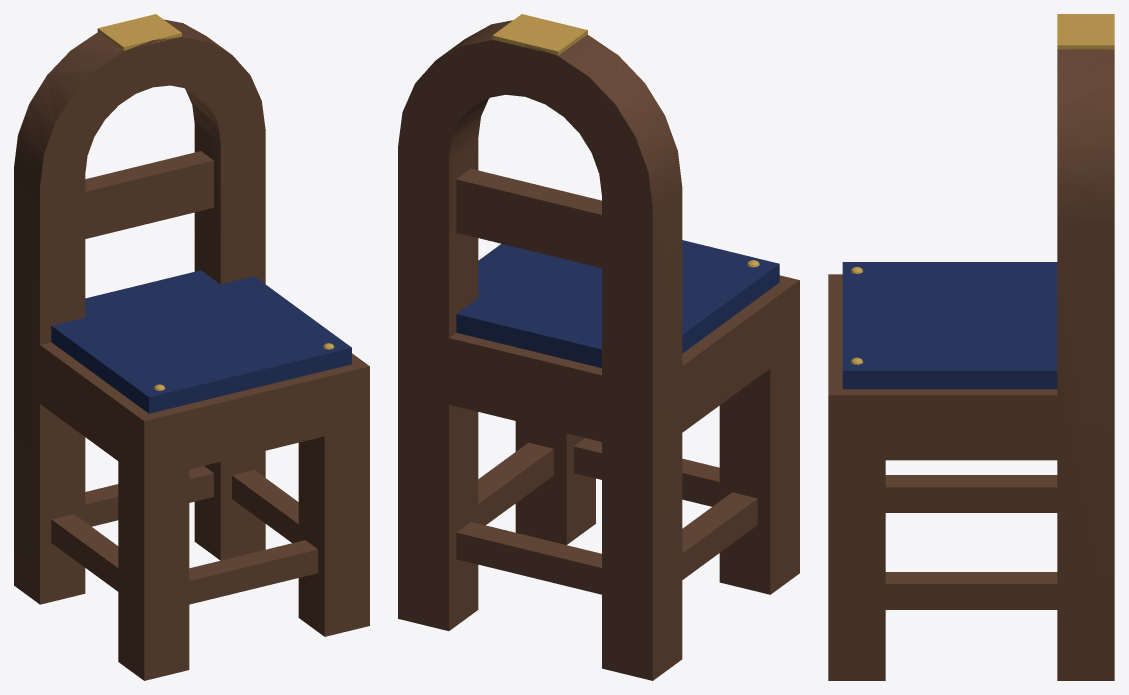
File: chairRounded.glb
The picture shows the model from 3 angles, left to right: view 1: azimuth 30°, elevation 25°; view 2: azimuth 150°, elevation 25°; view 3: azimuth 270°, elevation 25°; orthographic projection. The views are drawn at different scales.
Visible parts, largest first — view 1: chairRounded(Clone); view 2: chairRounded(Clone); view 3: chairRounded(Clone).
Part boxes in pixels (<box>): chairRounded(Clone): <box>14,14,369,680</box>; chairRounded(Clone): <box>398,14,799,680</box>; chairRounded(Clone): <box>828,14,1114,680</box>.
Bounding box in the file's own units: 0.2 × 0.455 × 0.2.
